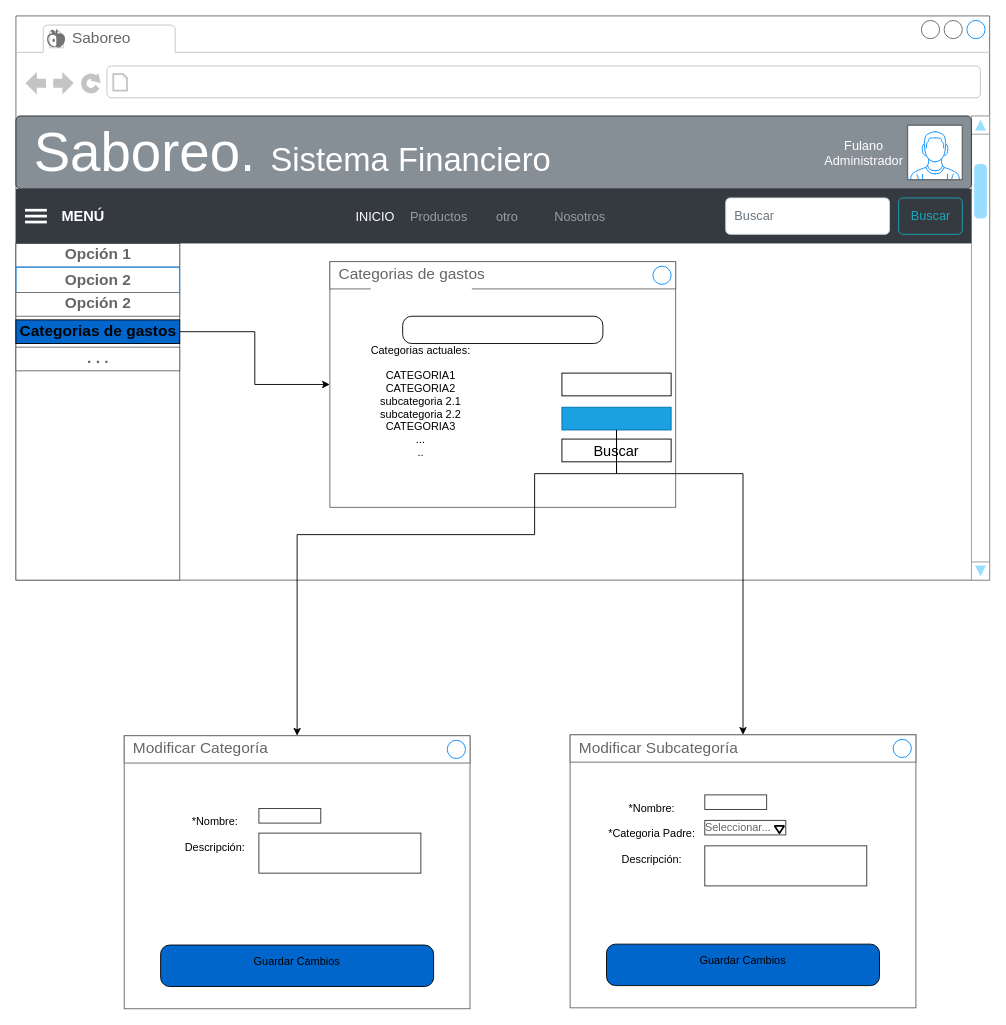
Image size: 1006x1025. Some labels were removed from this diagram. Each missing label, with the centre of its shape:
"Crear" goes at (616,384).
"https://www.saboreo.com/financiero" goes at (247,82).
"Modificar" goes at (616,418).
"¿Que desea hacer a continuacion" goes at (502,325).
